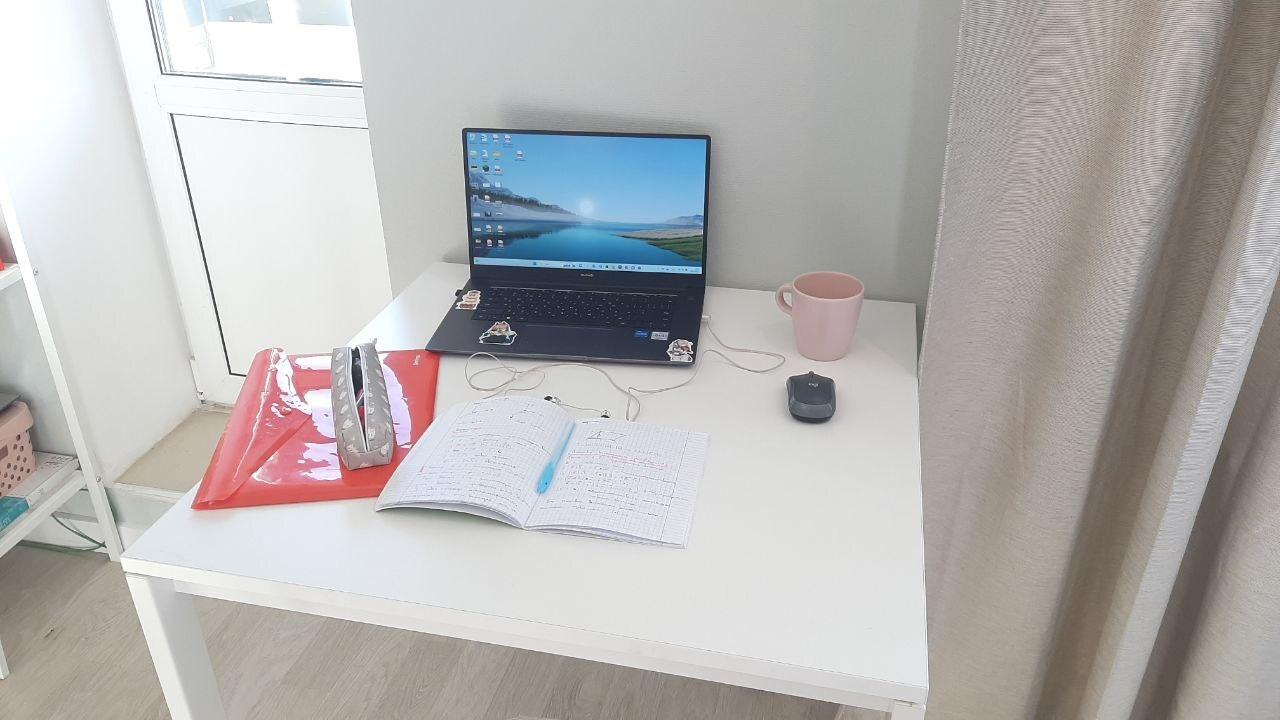monitor: (455, 121, 714, 294)
